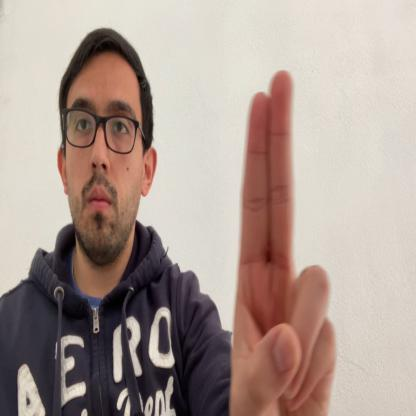U: (228, 68, 337, 415)
